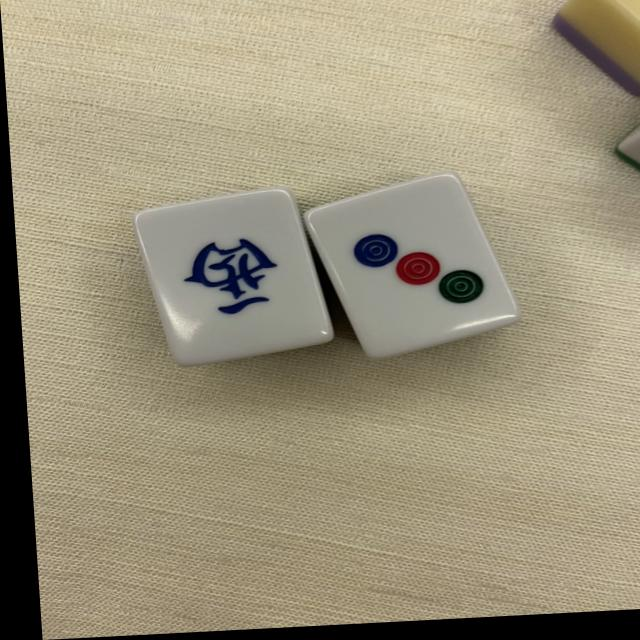3D: (304, 169, 522, 366)
WW: (133, 188, 338, 374)
